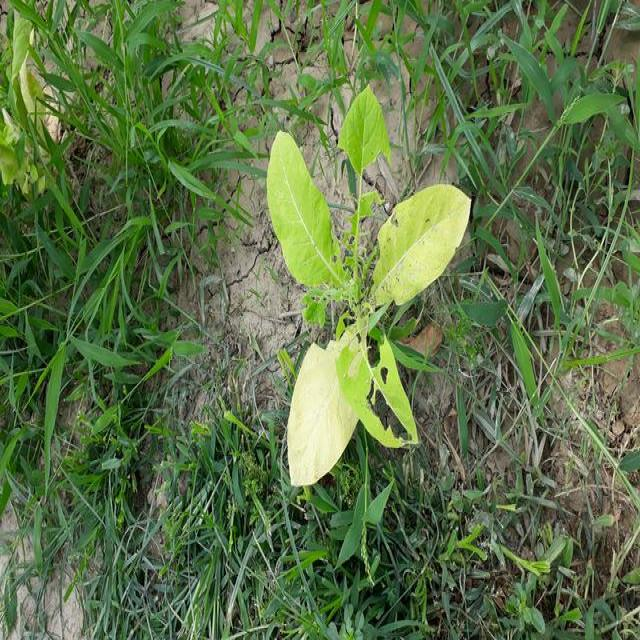crop: (261, 74, 481, 491)
